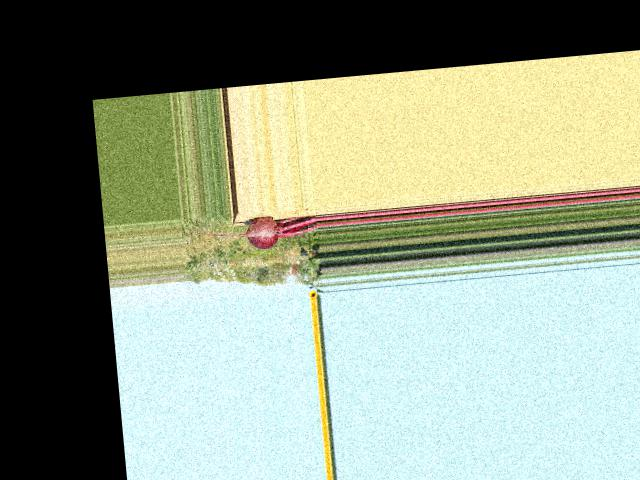beet: (185, 211, 320, 255)
